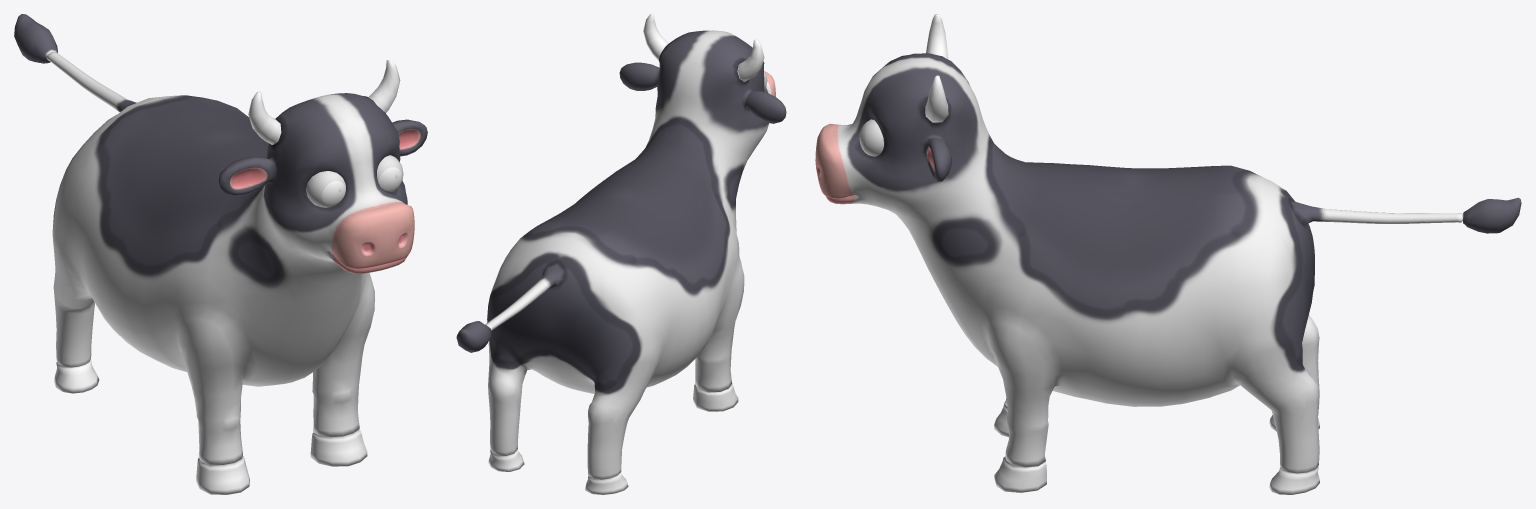
The model's file is COW.glb.
3 renders of one model, left to right at view 1: azimuth 30°, elevation 25°; view 2: azimuth 150°, elevation 25°; view 3: azimuth 270°, elevation 25°, orthographic. The views are drawn at different scales.
Parts seen in each view (by area): view 1: GEO_BODY_COW, GEO_EYES_R_COW, GEO_EYES_L_COW; view 2: GEO_BODY_COW; view 3: GEO_BODY_COW.
Boxes of the visible parts, x1,y1,x2,y2 form: GEO_BODY_COW: [14, 14, 427, 494]; GEO_EYES_R_COW: [306, 171, 345, 207]; GEO_EYES_L_COW: [377, 155, 403, 191]; GEO_BODY_COW: [456, 14, 786, 494]; GEO_BODY_COW: [815, 14, 1521, 494].
Size of the model in its own units: 1.34 by 2.48 by 3.87.
Materials: 9 (1 with a texture image).
